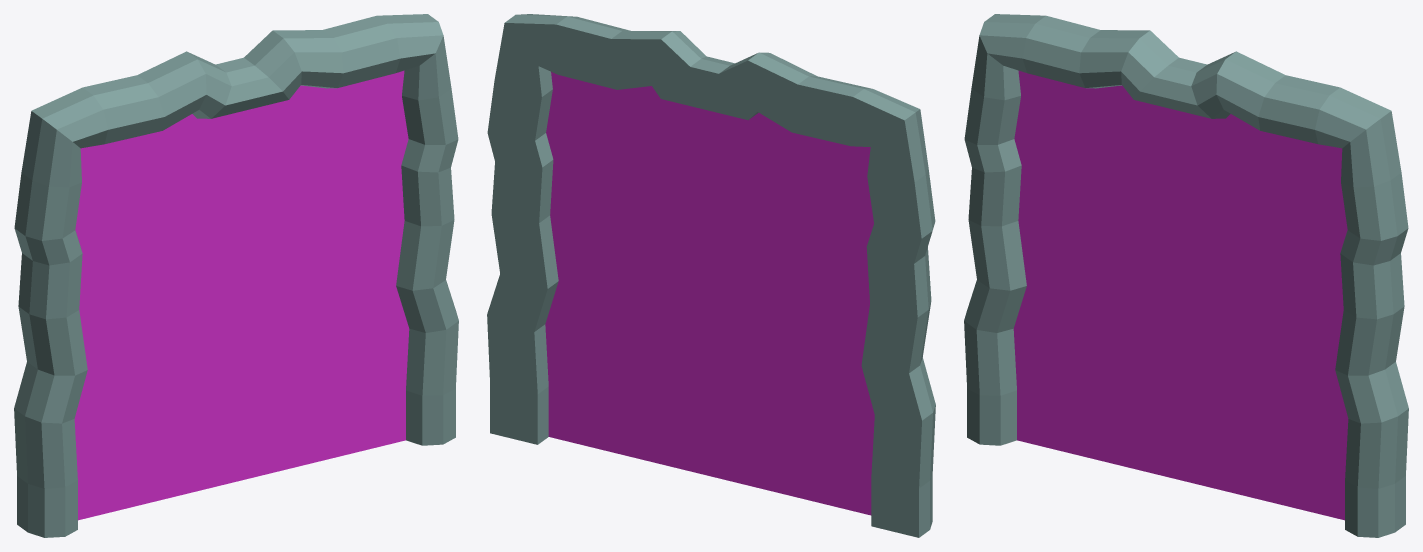
Rendered from forest_level_exit.glb.
The picture shows the model from 3 angles, left to right: view 1: azimuth 30°, elevation 25°; view 2: azimuth 150°, elevation 25°; view 3: azimuth 330°, elevation 25°; orthographic projection.
Visible parts, largest first — view 1: Exit; view 2: Exit; view 3: Exit.
Boxes of the visible parts, x1,y1,x2,y2 form: Exit: [14, 14, 458, 537]; Exit: [487, 14, 935, 537]; Exit: [964, 14, 1408, 537].
Size of the model in its own units: 2.28 by 2.18 by 0.225.
